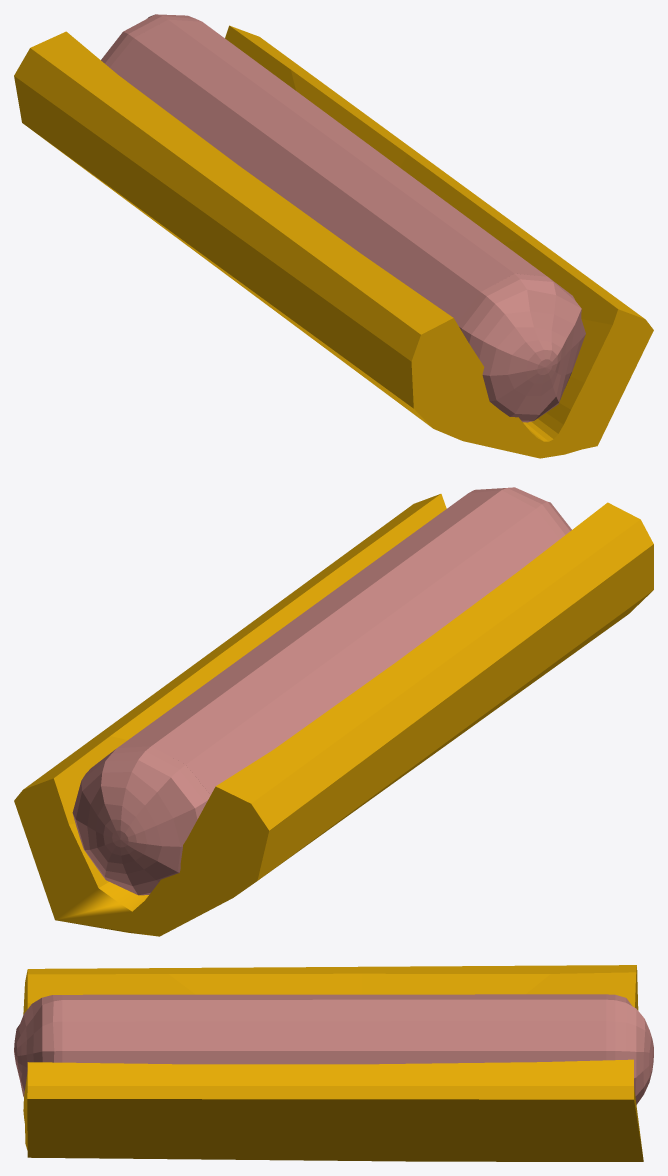
File: hotdog.glb
3 renders of one model, top to bottom at view 1: azimuth 30°, elevation 25°; view 2: azimuth 150°, elevation 25°; view 3: azimuth 270°, elevation 25°, orthographic. The views are drawn at different scales.
Parts seen in each view (by area): view 1: Cylinder, HotDog; view 2: Cylinder, HotDog; view 3: Cylinder, HotDog.
Boxes of the visible parts, x1,y1,x2,y2 form: Cylinder: (14, 25, 653, 458); HotDog: (101, 14, 585, 422); Cylinder: (14, 494, 653, 936); HotDog: (72, 487, 571, 895); Cylinder: (23, 965, 643, 1161); HotDog: (14, 994, 653, 1104).
Bounding box in the file's own units: 0.1007 × 0.0652 × 0.2804.
